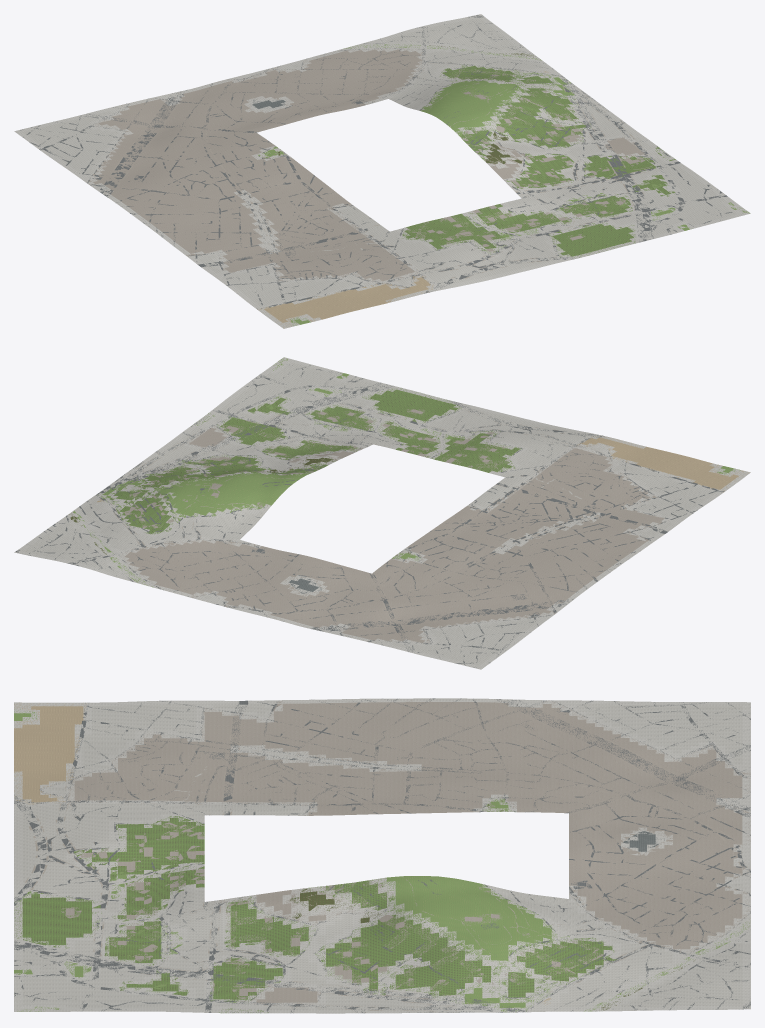
3 renders of one model, top to bottom at view 1: azimuth 30°, elevation 25°; view 2: azimuth 150°, elevation 25°; view 3: azimuth 270°, elevation 25°, orthographic. The views are drawn at different scales.
Visible parts, largest first — view 1: ground-cityPave, ground-city, ground-alley, ground-asphalt-overlay, ground-aptGarden, ground-cityPave-overlay, ground-alley-overlay, ground-grass, ground-construction, ground-sidewalk-overlay, ground-aptGarden-overlay, ground-grass-overlay; view 2: ground-cityPave, ground-city, ground-alley, ground-asphalt-overlay, ground-aptGarden, ground-grass, ground-cityPave-overlay, ground-alley-overlay, ground-construction, ground-sidewalk-overlay, ground-aptGarden-overlay, ground-grass-overlay; view 3: ground-cityPave, ground-city, ground-alley, ground-aptGarden, ground-asphalt-overlay, ground-cityPave-overlay, ground-grass, ground-alley-overlay, ground-construction, ground-aptGarden-overlay, ground-sidewalk-overlay, ground-grass-overlay (+1 smaller).
Boxes of the visible parts, <box> form: ground-cityPave: <box>93,49,644,281</box>; ground-city: <box>14,14,750,328</box>; ground-alley: <box>23,17,736,306</box>; ground-asphalt-overlay: <box>20,15,732,309</box>; ground-aptGarden: <box>404,65,670,256</box>; ground-cityPave-overlay: <box>88,48,647,281</box>; ground-alley-overlay: <box>23,14,743,308</box>; ground-grass: <box>265,77,689,324</box>; ground-construction: <box>264,277,430,322</box>; ground-sidewalk-overlay: <box>111,53,652,283</box>; ground-aptGarden-overlay: <box>402,64,675,257</box>; ground-grass-overlay: <box>258,44,749,325</box>; ground-cityPave: <box>124,409,664,642</box>; ground-city: <box>14,357,750,669</box>; ground-alley: <box>23,362,716,665</box>; ground-asphalt-overlay: <box>15,364,724,667</box>; ground-aptGarden: <box>114,389,519,533</box>; ground-grass: <box>102,373,733,558</box>; ground-cityPave-overlay: <box>121,409,668,643</box>; ground-alley-overlay: <box>15,359,723,666</box>; ground-construction: <box>581,437,738,489</box>; ground-sidewalk-overlay: <box>110,403,645,630</box>; ground-aptGarden-overlay: <box>110,388,520,534</box>; ground-grass-overlay: <box>73,357,740,587</box>; ground-cityPave: <box>66,702,742,1002</box>; ground-city: <box>14,698,750,1013</box>; ground-alley: <box>22,704,742,1009</box>; ground-aptGarden: <box>22,818,612,999</box>; ground-asphalt-overlay: <box>14,698,750,1013</box>; ground-cityPave-overlay: <box>61,700,750,1005</box>; ground-grass: <box>14,713,551,1007</box>; ground-alley-overlay: <box>14,700,750,1013</box>; ground-construction: <box>14,706,83,802</box>; ground-aptGarden-overlay: <box>14,816,617,1013</box>; ground-sidewalk-overlay: <box>25,701,748,1013</box>; ground-grass-overlay: <box>14,709,749,1012</box>.
Size of the model in its own units: 1360 by 69.53 by 1360.
Materials: 20 (20 with a texture image).
